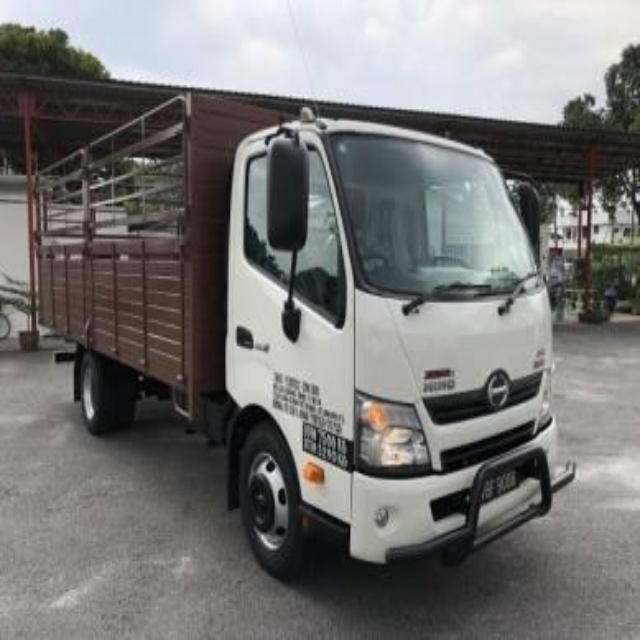Truck: (33, 92, 576, 576)
